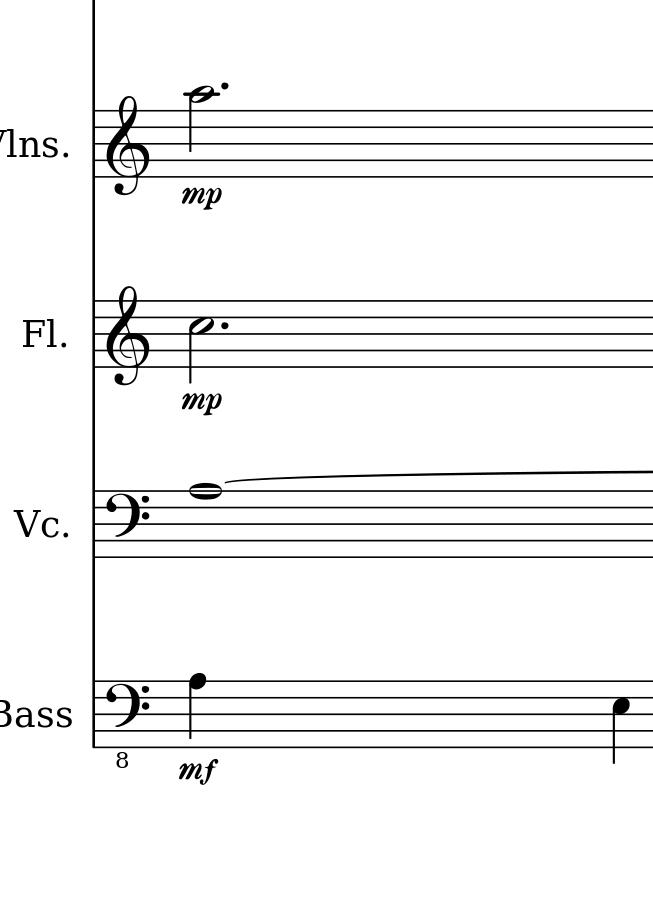1_8: (188, 479, 222, 565)
2_10: (184, 82, 216, 179)
2_5: (188, 300, 217, 383)
4_5: (611, 678, 635, 768)
4_8: (186, 669, 206, 751)
Fclef: (106, 489, 151, 560)
Fl: (17, 313, 58, 354)
Gclef: (104, 94, 150, 199), (104, 285, 150, 386)
Lower_Fclef: (101, 679, 151, 767)
Single_barline: (86, 110, 102, 181), (86, 491, 102, 559), (87, 300, 102, 369), (87, 680, 101, 747)
Vc: (13, 504, 58, 540)
dot: (217, 318, 231, 334), (218, 81, 231, 94)
mf: (178, 758, 219, 786)
mp: (181, 388, 224, 417), (180, 185, 224, 212)
